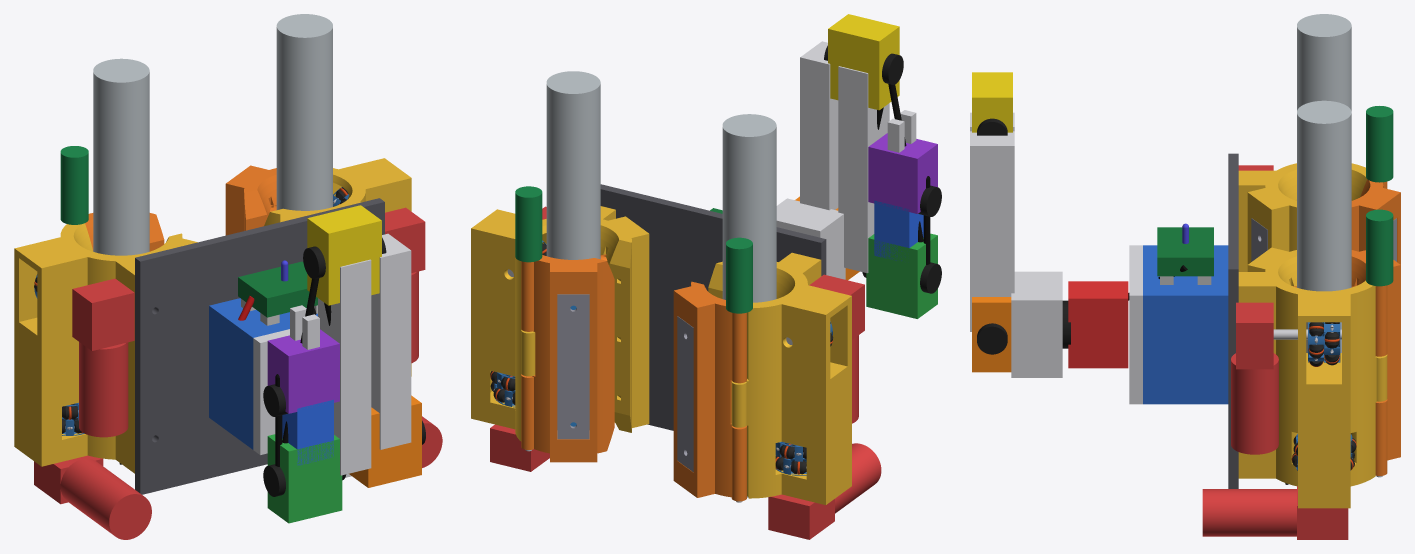
The model's file is cart-arm-stowed-v4.glb.
3 views of the same model, side by side, from view 1: azimuth 30°, elevation 25°; view 2: azimuth 150°, elevation 25°; view 3: azimuth 270°, elevation 25° (orthographic). The views are drawn at different scales.
Visible parts, largest first — view 1: base_plate, hand_on_pipe_B_sleeve, track_pipe_C, track_pipe_B, arm_stowed_upper_arm, arm_stowed_forearm, battery, arm_stowed_servo_D_wrist_flex, arm_stowed_servo_C_elbow, hand_on_pipe_B_roll_motor, hand_on_pipe_B_drive_motor, arm_stowed_servo_F_gripper (+19 smaller); view 2: hand_on_pipe_B_sleeve, hand_on_pipe_C_sleeve, hand_on_pipe_C_jaw, base_plate, hand_on_pipe_B_jaw, track_pipe_C, track_pipe_B, arm_stowed_forearm, arm_stowed_upper_arm, hand_on_pipe_C_p60_cap, arm_stowed_servo_D_wrist_flex, arm_stowed_servo_C_elbow (+16 smaller); view 3: hand_on_pipe_C_sleeve, battery, track_pipe_C, arm_stowed_upper_arm, arm_stowed_shoulder_bracket, arm_stowed_servo_A_base, hand_on_pipe_B_sleeve, hand_on_pipe_C_jaw, track_pipe_B, hand_on_pipe_C_roll_motor, hand_on_pipe_C_drive_motor, base_plate (+15 smaller).
Boxes of the visible parts, <box> form: base_plate: <box>135,198,384,494</box>; hand_on_pipe_B_sleeve: <box>14,223,197,473</box>; track_pipe_C: <box>276,14,332,210</box>; track_pipe_B: <box>93,58,149,255</box>; arm_stowed_upper_arm: <box>371,233,411,449</box>; arm_stowed_forearm: <box>318,259,371,475</box>; battery: <box>209,298,317,449</box>; arm_stowed_servo_D_wrist_flex: <box>267,434,342,523</box>; arm_stowed_servo_C_elbow: <box>307,205,381,305</box>; hand_on_pipe_B_roll_motor: <box>60,458,151,539</box>; hand_on_pipe_B_drive_motor: <box>79,342,128,437</box>; arm_stowed_servo_F_gripper: <box>267,329,339,413</box>; hand_on_pipe_B_sleeve: <box>708,252,851,504</box>; hand_on_pipe_C_sleeve: <box>471,206,649,441</box>; hand_on_pipe_C_jaw: <box>521,255,614,462</box>; base_plate: <box>600,184,826,430</box>; hand_on_pipe_B_jaw: <box>673,281,746,501</box>; track_pipe_C: <box>546,71,600,259</box>; track_pipe_B: <box>722,114,776,497</box>; arm_stowed_forearm: <box>838,66,889,273</box>; arm_stowed_upper_arm: <box>800,41,838,210</box>; hand_on_pipe_C_p60_cap: <box>557,294,589,439</box>; arm_stowed_servo_D_wrist_flex: <box>866,233,937,318</box>; arm_stowed_servo_C_elbow: <box>828,14,899,110</box>; hand_on_pipe_C_sleeve: <box>1238,247,1387,508</box>; battery: <box>1143,245,1228,404</box>; track_pipe_C: <box>1297,100,1351,353</box>; arm_stowed_upper_arm: <box>970,131,1014,331</box>; arm_stowed_shoulder_bracket: <box>1011,271,1062,377</box>; arm_stowed_servo_A_base: <box>1068,281,1128,368</box>; hand_on_pipe_B_sleeve: <box>1238,163,1367,271</box>; hand_on_pipe_C_jaw: <box>1351,250,1400,475</box>; track_pipe_B: <box>1297,14,1351,110</box>; hand_on_pipe_C_roll_motor: <box>1202,489,1296,536</box>; hand_on_pipe_C_drive_motor: <box>1231,353,1278,454</box>; base_plate: <box>1228,153,1238,488</box>.
Size of the model in its own units: 242 by 256 by 252.
